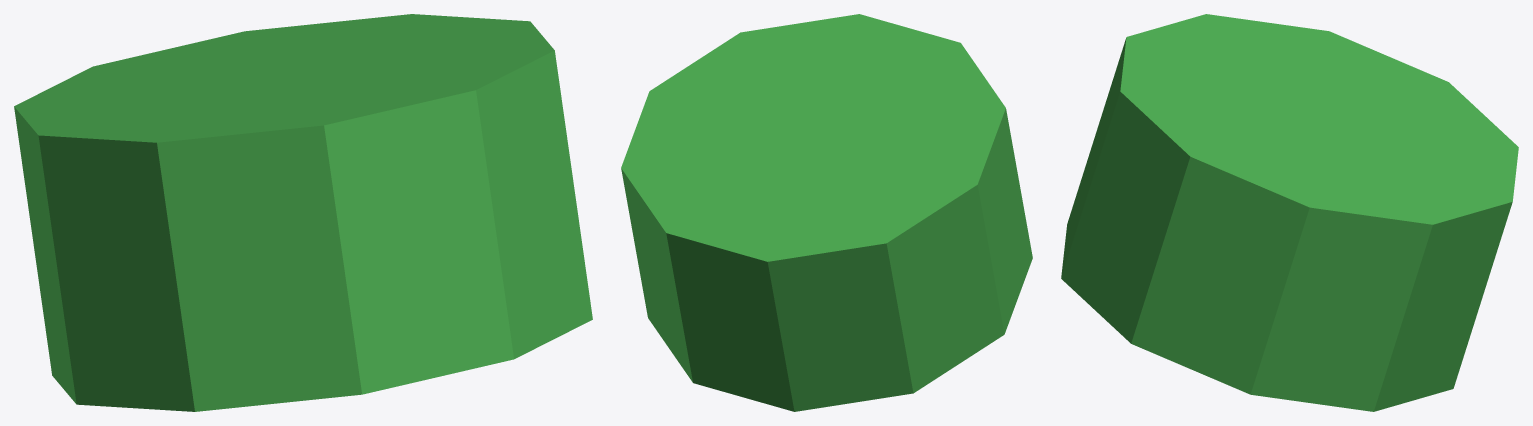
File: group1182738416_lev3.glb
3 renders of one model, left to right at view 1: azimuth 30°, elevation 25°; view 2: azimuth 150°, elevation 25°; view 3: azimuth 270°, elevation 25°, orthographic. The views are drawn at different scales.
Visible parts, largest first — view 1: group1182738416_lev3; view 2: group1182738416_lev3; view 3: group1182738416_lev3.
Boxes of the visible parts, bbox=[...] form: group1182738416_lev3: bbox=[14, 14, 592, 411]; group1182738416_lev3: bbox=[621, 14, 1032, 411]; group1182738416_lev3: bbox=[1061, 14, 1518, 411].
Bounding box in the file's own units: 0.5489 × 0.4102 × 0.5853.
